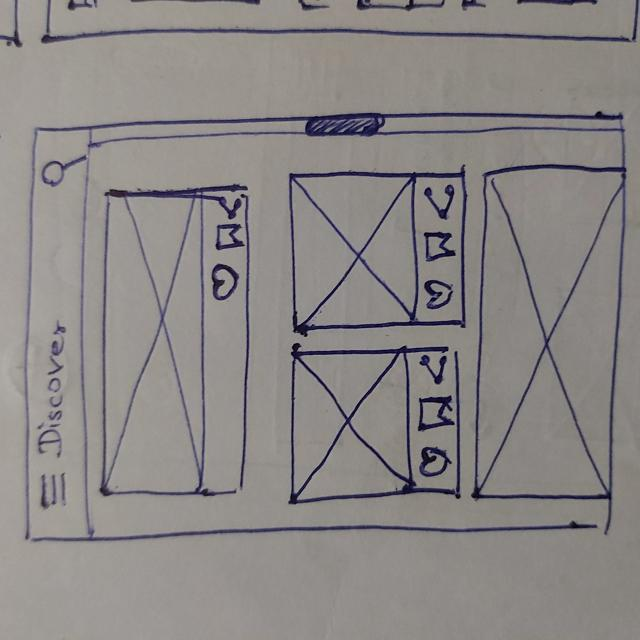ActionButton: (39, 148, 88, 194)
AppBar: (23, 122, 95, 542)
CardView: (100, 184, 249, 494), (285, 170, 467, 326), (289, 348, 463, 504)
DrawerToggleButton: (37, 471, 70, 510)
Icon: (40, 151, 86, 190), (416, 395, 456, 434), (422, 183, 458, 221), (421, 228, 459, 264), (209, 262, 242, 303), (416, 351, 451, 389), (417, 444, 451, 480), (214, 220, 246, 254), (423, 278, 454, 312), (214, 191, 246, 220)
Image: (481, 170, 610, 499), (104, 190, 202, 494), (288, 172, 417, 328), (292, 350, 413, 497)
MainLayout: (14, 110, 626, 542)
ScrollBar: (91, 113, 623, 136)
ScrollView: (87, 125, 615, 528)
TextView: (36, 320, 69, 454)
